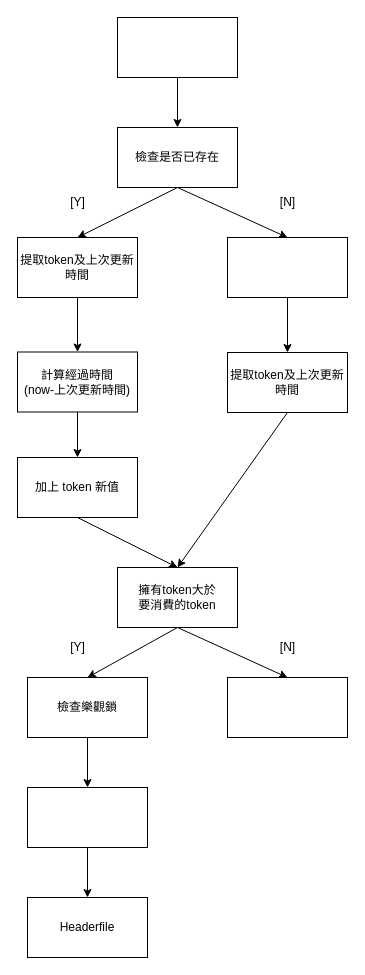
This 365x975 diagram has some shape labels left out. Each missing label, with the box of its shape:
token值-1: (26, 786, 148, 848)
建立cache key: (116, 16, 238, 78)
建立新的cache: (226, 236, 348, 298)
計算Retry-At: (226, 676, 348, 738)
